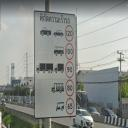speed_limit_100: (65, 43, 74, 60)
speed_limit_120: (65, 24, 74, 42)
speed_limit_80: (66, 80, 74, 96)
speed_limit_90: (65, 61, 74, 79)
